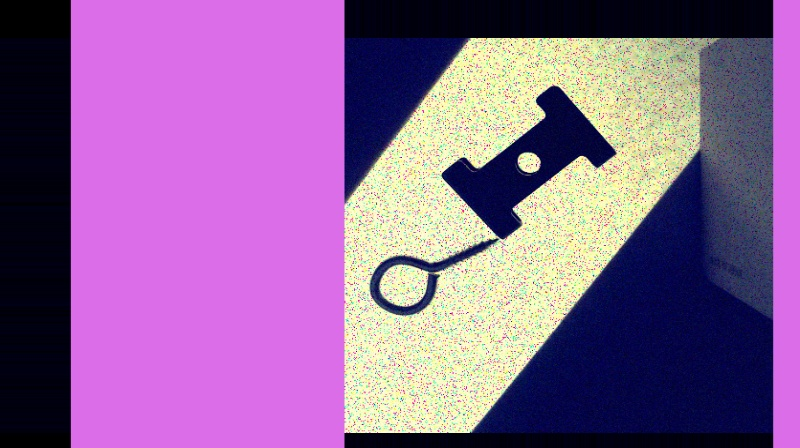O001: (368, 235, 501, 315)
O002: (441, 85, 615, 236)
S001: (493, 0, 657, 38)
